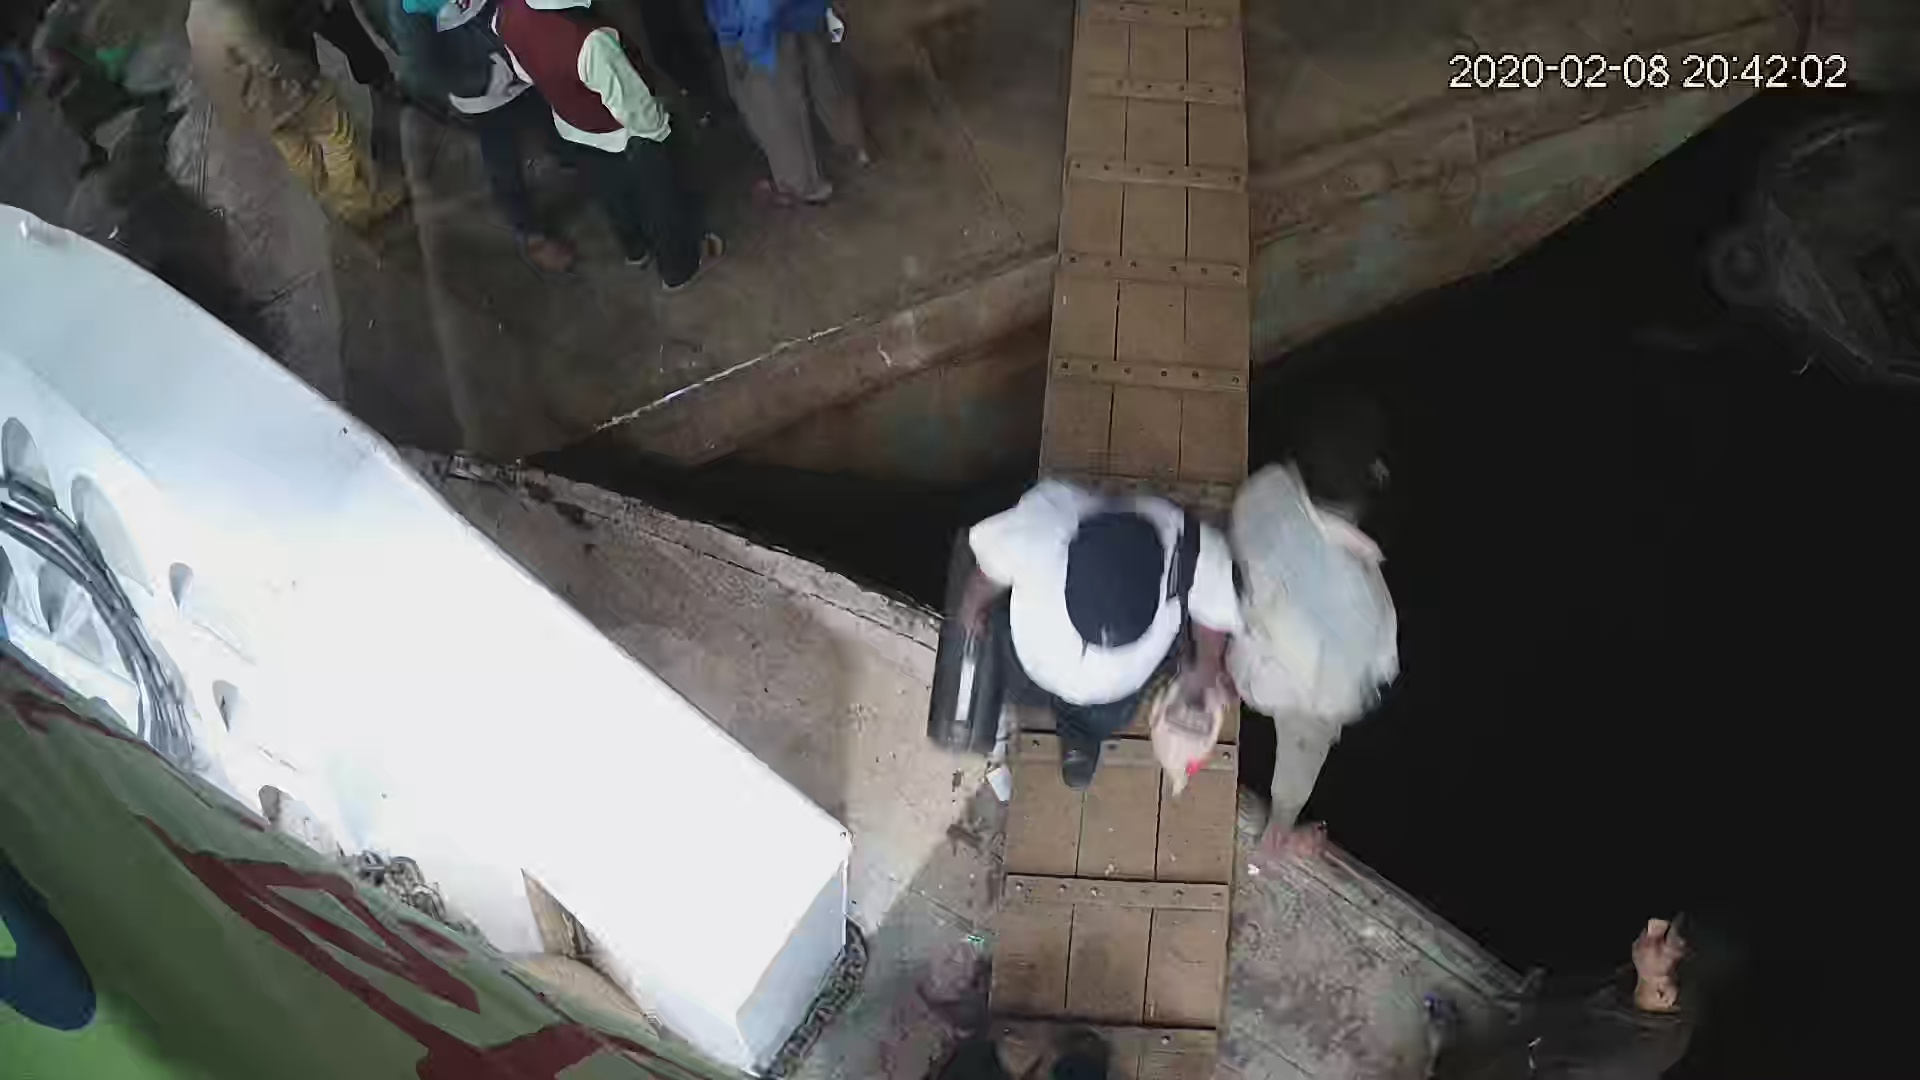person: (950, 472, 1233, 778), (1229, 380, 1406, 857), (501, 1, 725, 301), (1421, 901, 1758, 1076), (181, 1, 413, 236)
